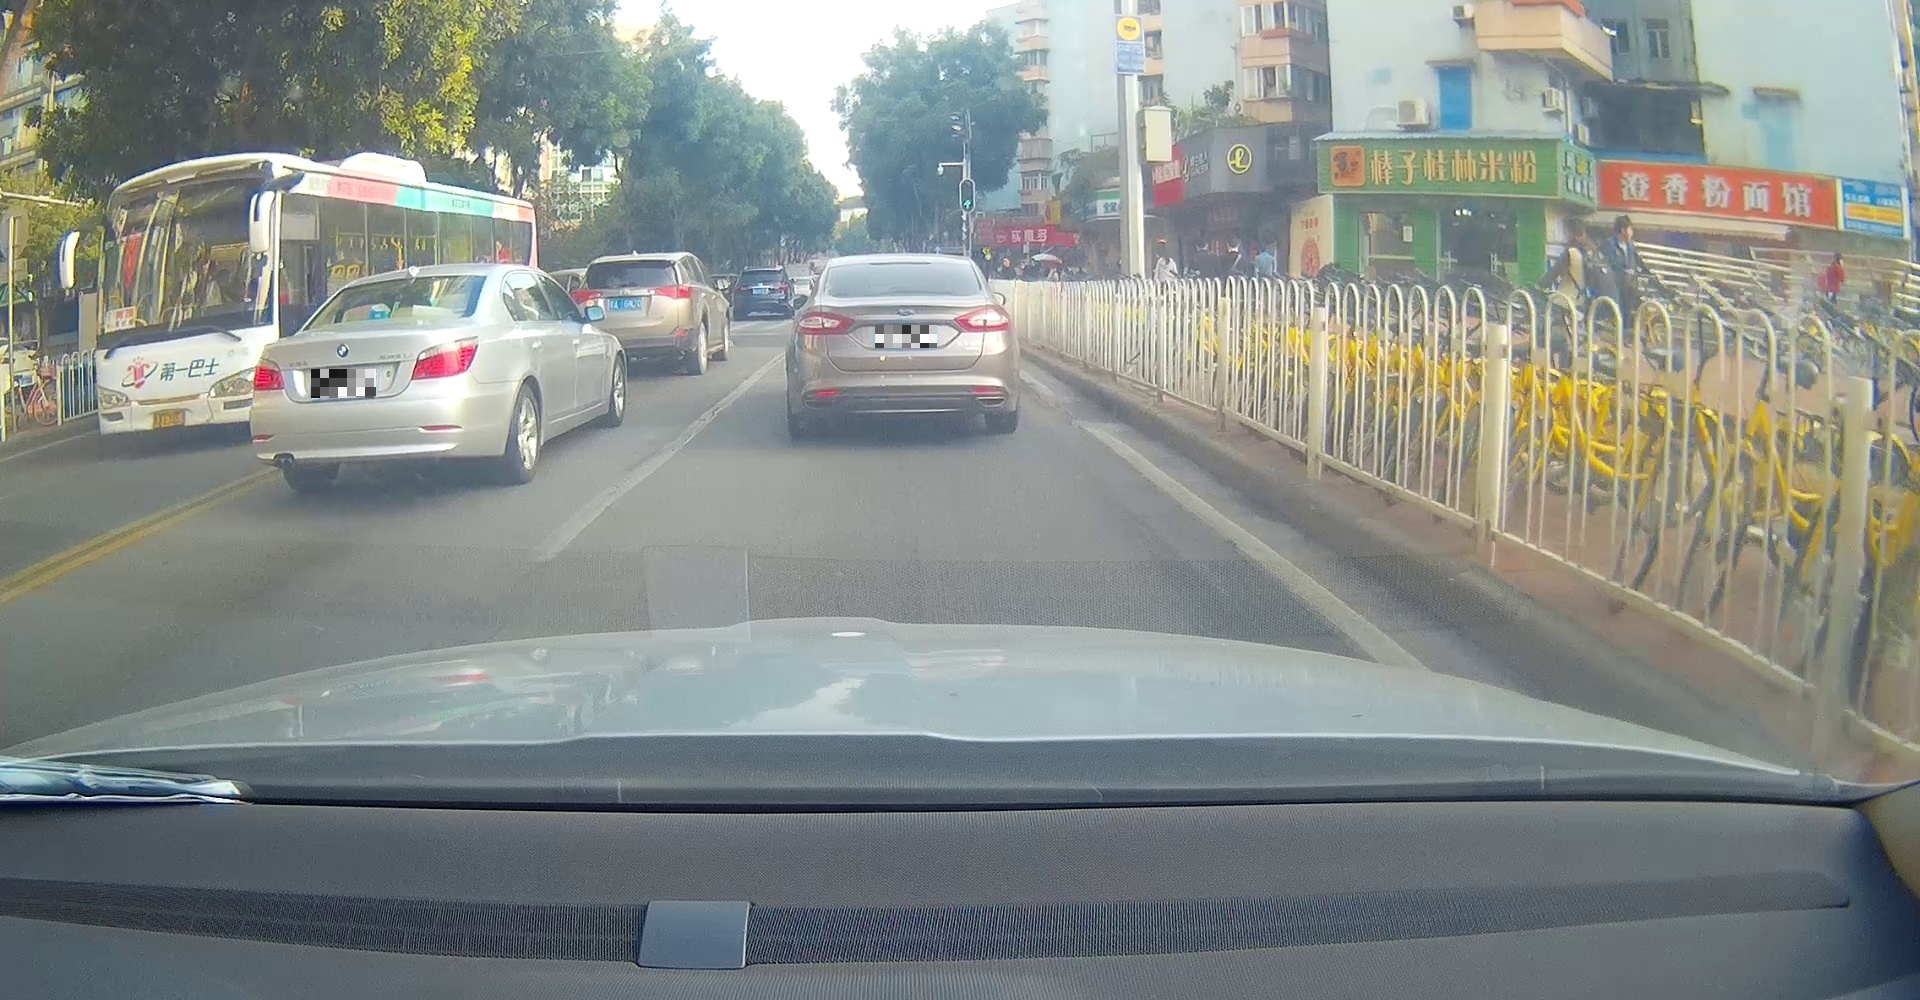L_light: (792, 311, 855, 334), (251, 357, 286, 392), (570, 289, 602, 303)
R_light: (410, 335, 480, 382), (952, 303, 1013, 332), (648, 284, 692, 299)
T_light: (872, 261, 932, 266), (392, 280, 422, 286), (621, 261, 641, 264)
day-no: (248, 264, 495, 489), (785, 253, 1018, 431), (569, 254, 697, 376)
plate_1: (311, 369, 376, 398)
plate_2: (875, 325, 937, 348)
